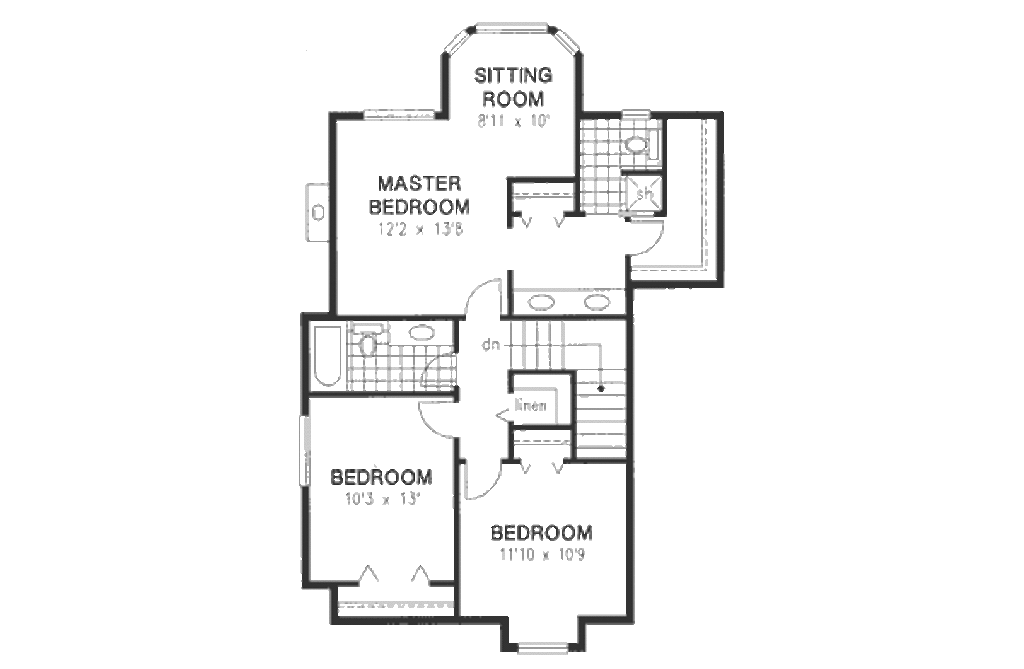door: (461, 279, 511, 330), (458, 456, 505, 506), (623, 214, 669, 255), (420, 399, 459, 444), (415, 353, 456, 393)
large_sink: (628, 131, 668, 167), (350, 317, 383, 359)
small_sink: (513, 282, 624, 315), (397, 315, 448, 348)
stairs: (500, 318, 630, 464)
tub: (306, 316, 353, 393)
window: (446, 18, 590, 52), (299, 415, 321, 491), (364, 99, 435, 120), (514, 640, 574, 653)
